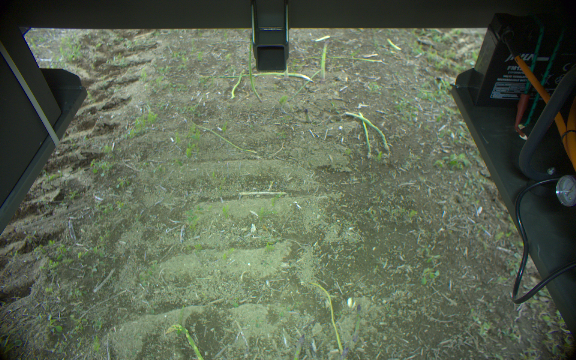aspa: (337, 108, 389, 160), (165, 324, 204, 360), (243, 36, 259, 100), (355, 108, 373, 159), (317, 36, 332, 81), (290, 336, 305, 360)
